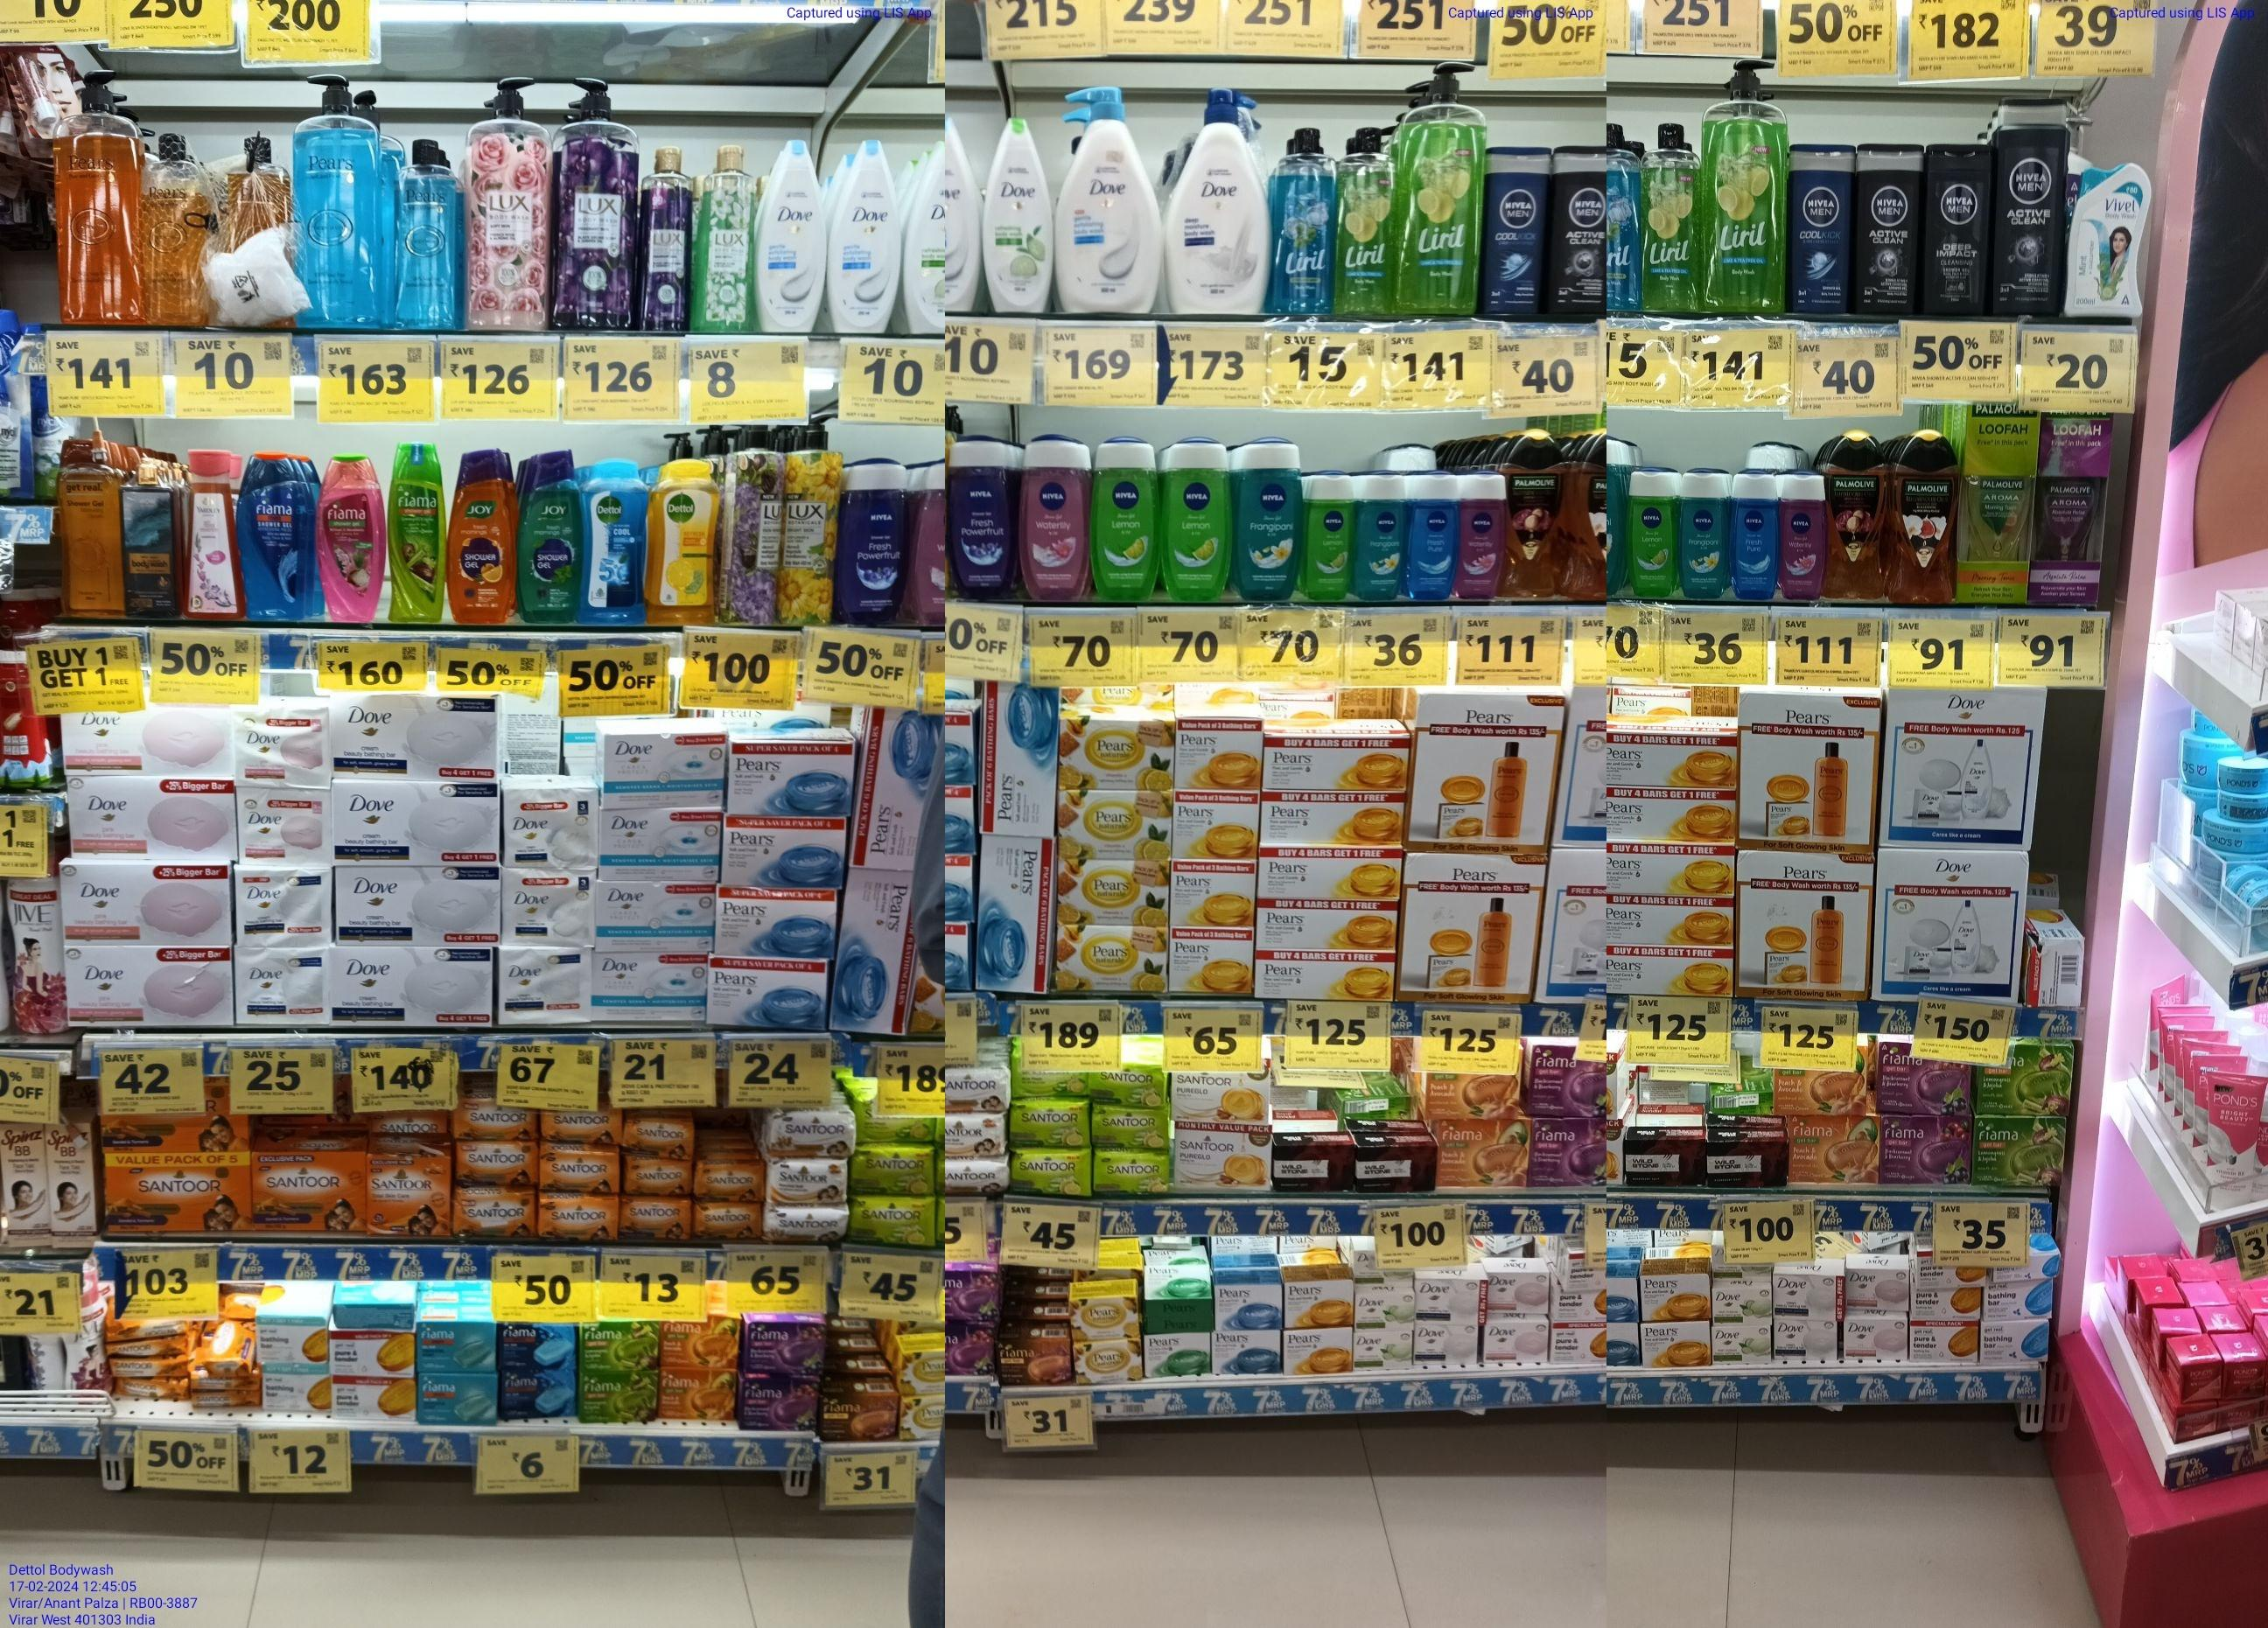Dettol_Bodywash_Cool: (581, 459, 646, 627)
Dettol_Bodywash_Refresh: (657, 459, 715, 625)
Dove_Gentle_Exfoliating_Body_Wash_250ML: (831, 139, 902, 336), (757, 139, 826, 331)
Dove_Refreshing_Body_Wash_250ML: (984, 121, 1051, 313)
Fiama_Shower_Gel_Patchouli_and_Macadamia_250ML: (317, 454, 380, 627)
Joy_Shower_Gel_Mandarin_and_Lemongrass_250ML: (451, 451, 507, 625)
Joy_Shower_Gel_Mint_and_Eucalyptus_250ML: (518, 451, 578, 625)
Liril_Cooling_Mint_Body_Wash_250ML: (1273, 128, 1333, 313)
Liril_Lime_and_Tea_Tree_Oil_Body_Wash_250ML: (1638, 125, 1699, 315)
Lux_Black_Orchid_Scent_and_Juniper_Oil_Body_Wash_245ML: (639, 146, 690, 333)
Lux_Body_Wash_Skin_Detox_Freesia_Scent_and_Alove_Vera_245ML: (703, 144, 757, 333)
Nivea_Shower_Gel_Frangipani_and_Oil_250ML: (1241, 442, 1301, 600)
Nivea_Shower_Gel_Fresh_Powerfruit_250ML: (949, 440, 1014, 598), (842, 463, 905, 623)
Nivea_Shower_Gel_Lemon_and_Oil_250ML: (1166, 438, 1229, 604), (1093, 440, 1157, 600)
Nivea_Shower_Gel_Waterlily_and_Oil_250ML: (1021, 436, 1090, 600)
Palmolive_Luminous_Oils_Invigorating_Macadamia_Oil_With_Peony_250ML: (1507, 428, 1562, 598), (1830, 433, 1884, 600)
Palmolive_Luminous_Oils_With_White_Orchid_Shower_Gel_250ML: (1895, 433, 1956, 604)
